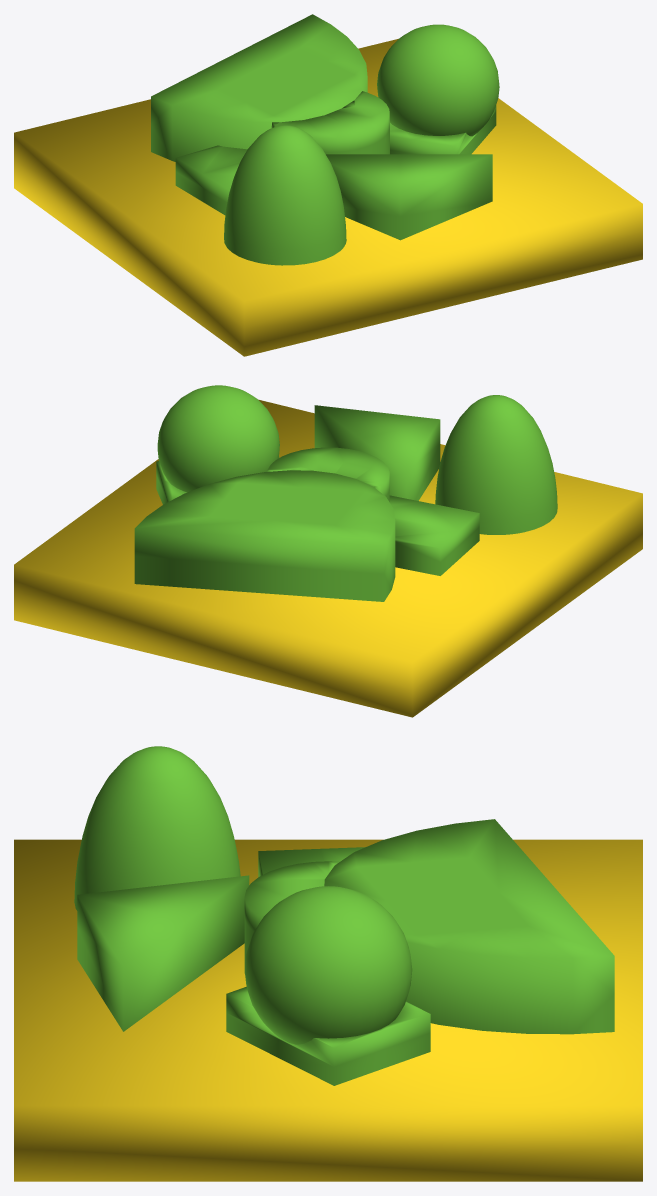
File: fragment_1.glb
3 views of the same model, one above another, from view 1: azimuth 30°, elevation 25°; view 2: azimuth 150°, elevation 25°; view 3: azimuth 270°, elevation 25° (orthographic). The views are drawn at different scales.
Visible parts, largest first — view 1: basetta, figura; view 2: basetta, figura; view 3: basetta, figura.
Part boxes in pixels (x1,y1,x2,y2): basetta: (14, 38, 642, 356); figura: (151, 14, 499, 265); basetta: (14, 399, 642, 717); figura: (134, 385, 557, 601); basetta: (14, 839, 642, 1181); figura: (74, 746, 614, 1085).
Bounding box in the file's own units: 0.015 × 0.006 × 0.015.
